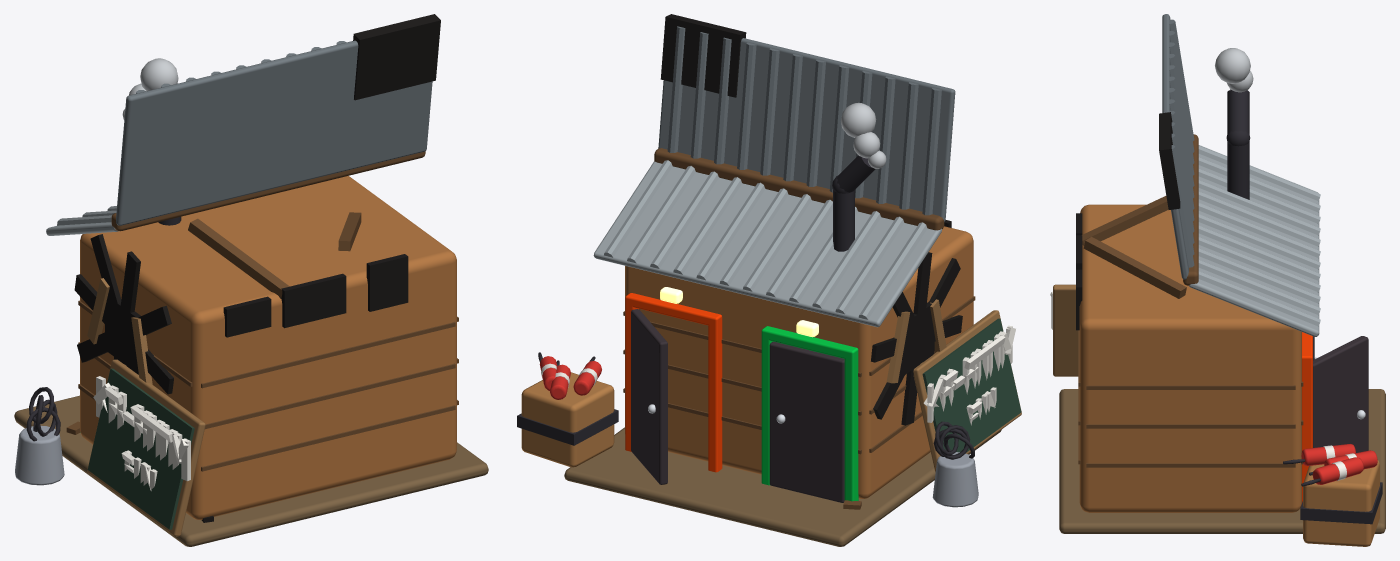
Rendered from building_blasting_academy_t1.glb.
The picture shows the model from 3 angles, left to right: view 1: azimuth 30°, elevation 25°; view 2: azimuth 150°, elevation 25°; view 3: azimuth 270°, elevation 25°; orthographic projection. The views are drawn at different scales.
Visible parts, largest first — view 1: Walls, RoofB.Sheet, Lot, Board.Face, RoofB.Char, PlanksB.Groove, WallChar1, Board.Frame, Bucket, WallChar2, Ridge, Rafter0 (+13 smaller); view 2: Walls, RoofF.Sheet, RoofB.Sheet, Lot, RoofB.Ridge, RoofF.Ridge, Entry.Leaf, Bench.Box, Exit.Leaf, Board.Face, RoofB.Char, Ridge (+20 smaller); view 3: Walls, RoofF.Ridge, Lot, RoofF.Sheet, Exit.Leaf, Bench.Box, RoofB.Ridge, PlanksR.Groove, Board.Frame, Rafter1, RoofB.Sheet, RoofB.Char (+10 smaller).
Boxes of the visible parts, x1,y1,x2,y2 form: Walls: (80,176,456,519); RoofB.Sheet: (116,40,432,225); Lot: (14,395,488,546); Board.Face: (87,368,194,529); RoofB.Char: (353,14,440,100); PlanksB.Groove: (201,321,455,471); WallChar1: (281,273,346,328); Board.Frame: (87,359,205,536); Bucket: (15,425,64,485); WallChar2: (366,254,408,311); Ridge: (111,151,425,231); Rafter0: (188,218,289,298); Walls: (625,226,973,498); RoofF.Sheet: (593,161,942,327); RoofB.Sheet: (658,38,955,221); Lot: (564,427,1001,546); RoofB.Ridge: (667,26,941,215); RoofF.Ridge: (604,160,927,319); Entry.Leaf: (769,341,844,502); Bench.Box: (521,372,614,467); Exit.Leaf: (631,309,667,484); Board.Face: (922,318,1021,452); RoofB.Char: (660,14,746,97); Ridge: (654,148,944,230); Walls: (1079,204,1301,512); RoofF.Ridge: (1198,146,1320,326); Lot: (1059,389,1385,533); RoofF.Sheet: (1189,145,1319,336); Exit.Leaf: (1313,336,1368,452); Bench.Box: (1303,460,1379,546); RoofB.Ridge: (1169,19,1194,267); PlanksR.Groove: (1086,385,1295,467); Board.Frame: (1053,284,1078,376); Rafter1: (1083,237,1186,298); RoofB.Sheet: (1162,14,1188,279); RoofB.Char: (1159,112,1180,209).
Size of the model in its own units: 3 by 2.71 by 2.12.
